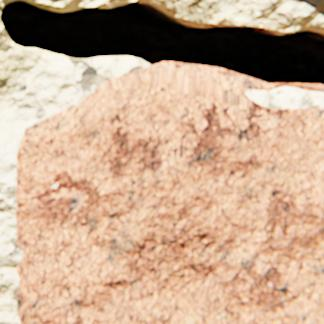brick: (16, 61, 323, 323)
crack: (0, 0, 323, 92)
